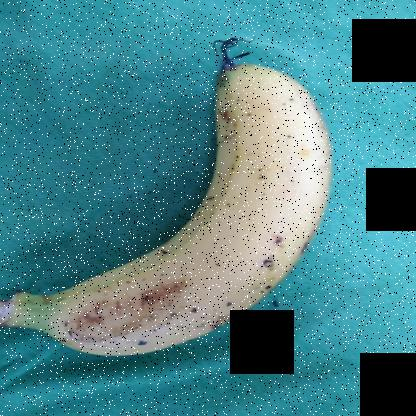ripe: (32, 63, 337, 359)
